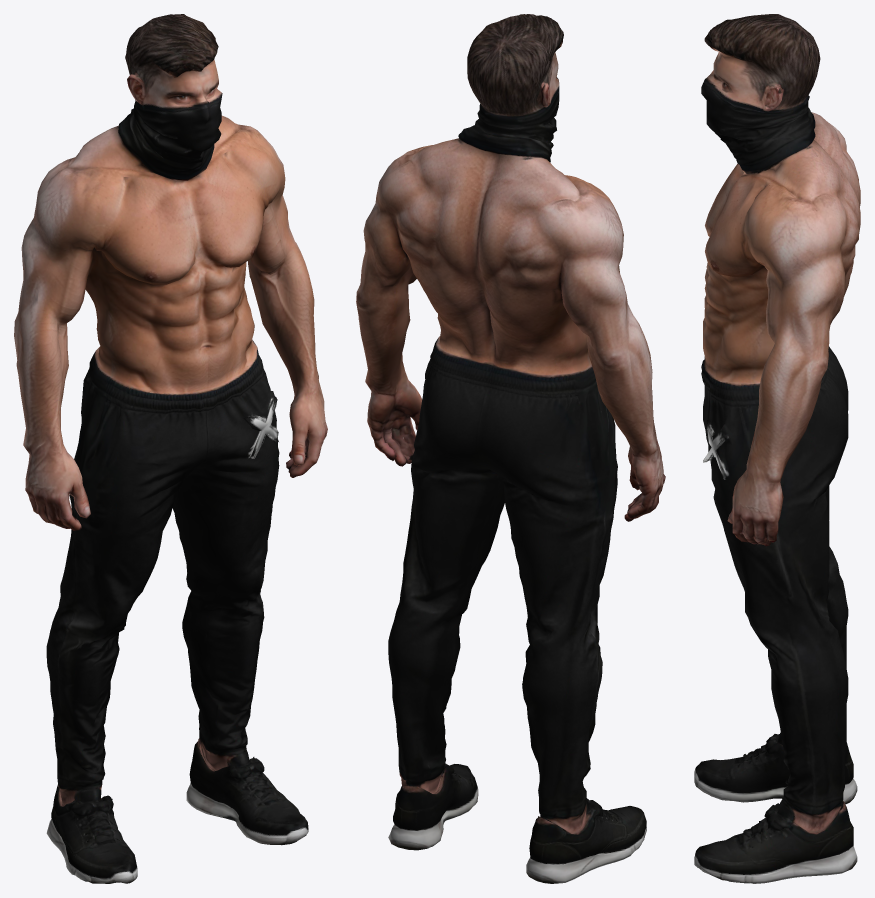
The model's file is AYTEX.glb.
3 views of the same model, side by side, from view 1: azimuth 30°, elevation 25°; view 2: azimuth 150°, elevation 25°; view 3: azimuth 270°, elevation 25° (orthographic).
Parts seen in each view (by area): view 1: tripo_node_702948ec-c2ff-4e3d-88d6-e6a9e156c5cf; view 2: tripo_node_702948ec-c2ff-4e3d-88d6-e6a9e156c5cf; view 3: tripo_node_702948ec-c2ff-4e3d-88d6-e6a9e156c5cf.
Boxes of the visible parts, <box> form: tripo_node_702948ec-c2ff-4e3d-88d6-e6a9e156c5cf: <box>14,14,327,883</box>; tripo_node_702948ec-c2ff-4e3d-88d6-e6a9e156c5cf: <box>356,14,665,883</box>; tripo_node_702948ec-c2ff-4e3d-88d6-e6a9e156c5cf: <box>694,14,860,883</box>.
Bounding box in the file's own units: 0.3653 × 0.9773 × 0.1817.
Materials: 1 (1 with a texture image).
